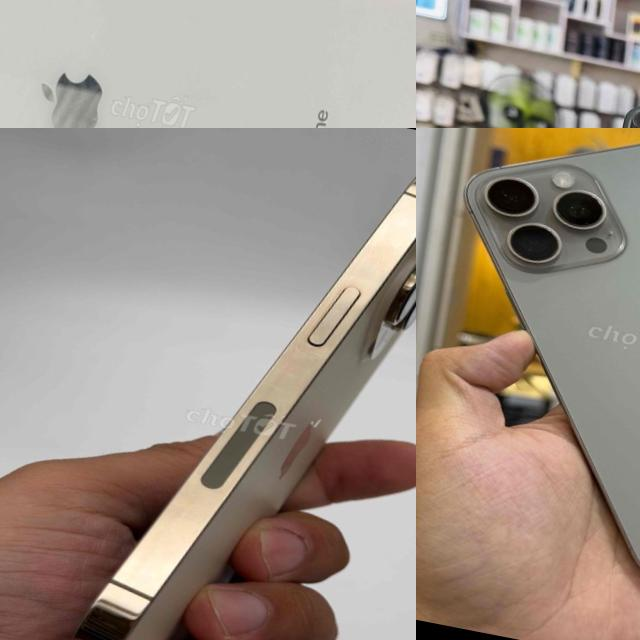gen_14: (71, 177, 416, 640)
gen_16: (416, 128, 640, 632)
gen_x_xs: (0, 0, 416, 128)
